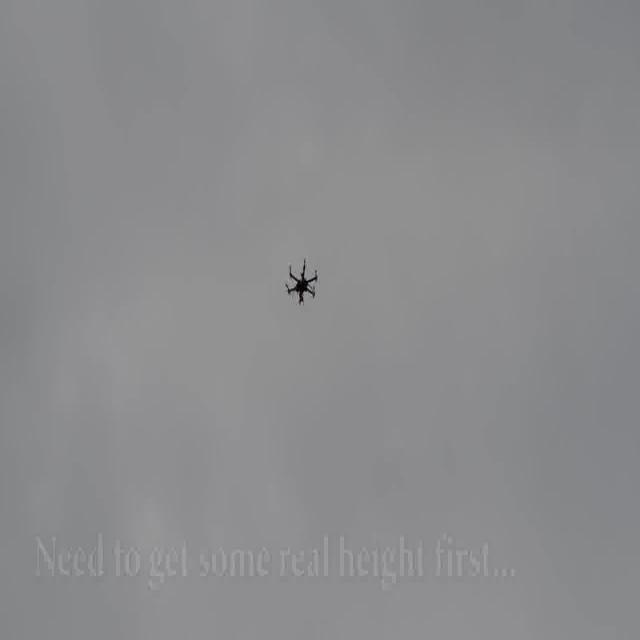Drone_FW: (284, 257, 318, 306)
